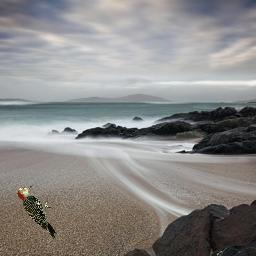Woodpecker: (16, 185, 57, 239)
